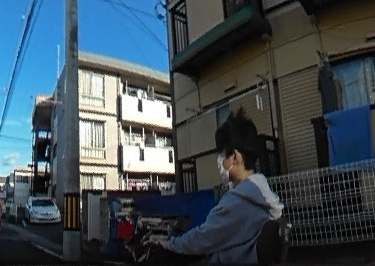person: (184, 109, 280, 266)
